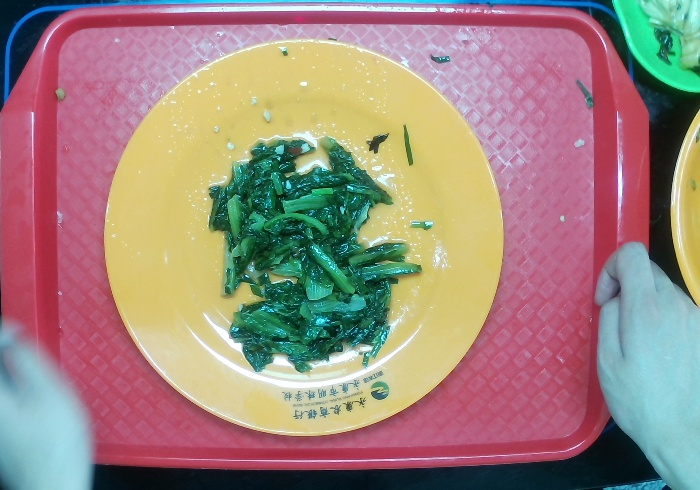YKMZ-Ju_Se_Mian_Pan: (93, 39, 505, 438)
